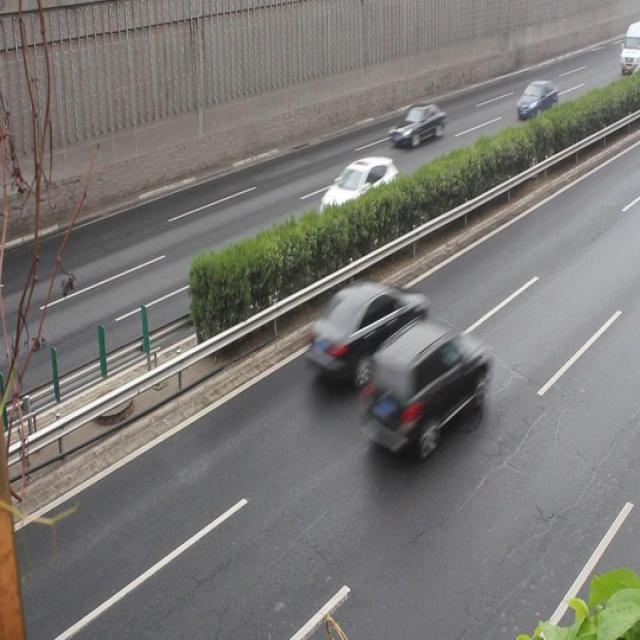car: (365, 322, 488, 451), (306, 279, 428, 380), (321, 156, 398, 232), (388, 101, 445, 150), (514, 78, 557, 122)
